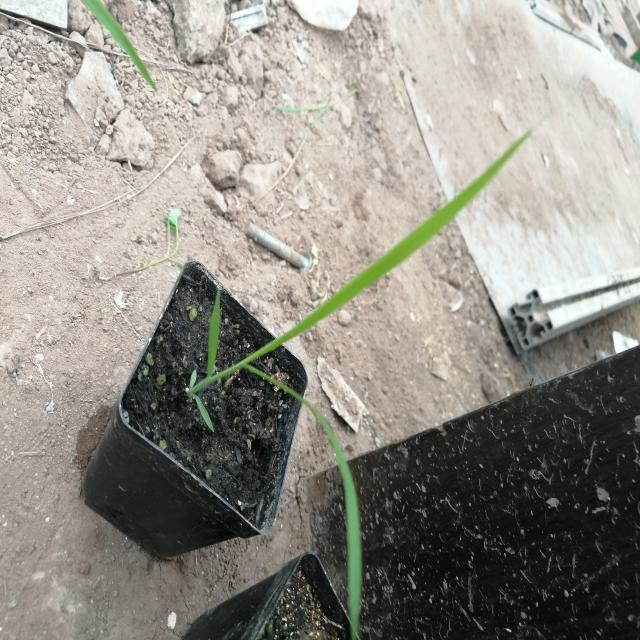crabgrass: (173, 175, 529, 527)
